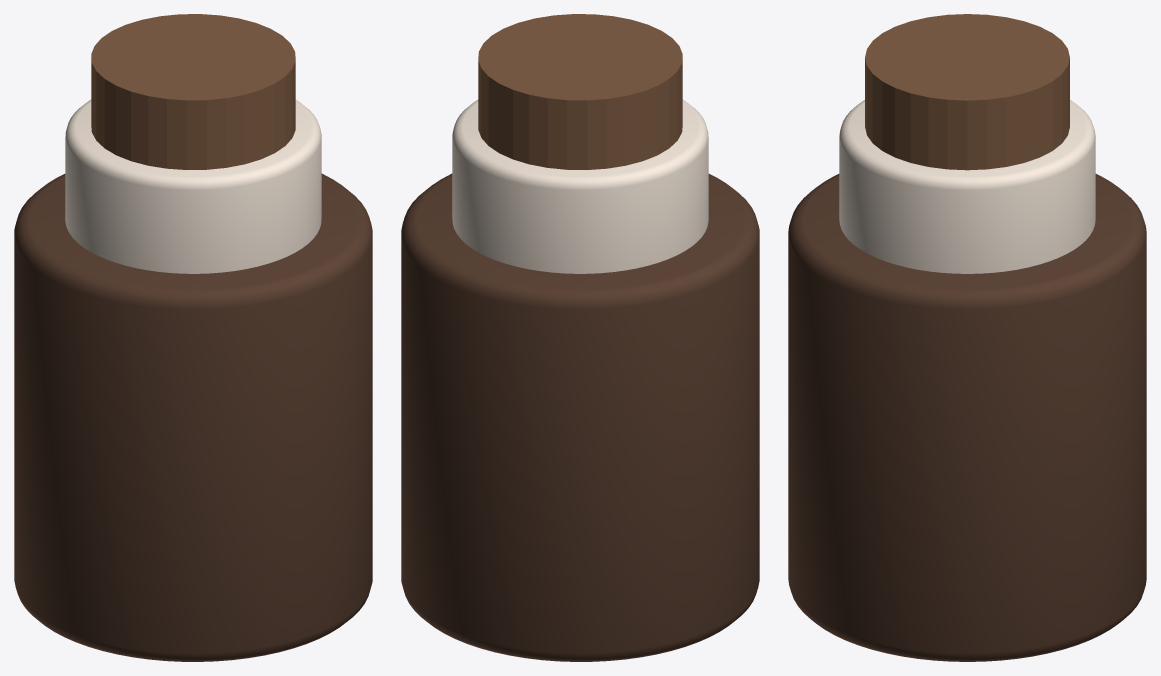
Rendered from dec54ba8-630c-42e4-9a9f-a6eb1b39072e.glb.
3 renders of one model, left to right at view 1: azimuth 30°, elevation 25°; view 2: azimuth 150°, elevation 25°; view 3: azimuth 270°, elevation 25°, orthographic.
Parts seen in each view (by area): view 1: Cup, Saucer, Coffee; view 2: Cup, Saucer, Coffee; view 3: Cup, Saucer, Coffee.
Boxes of the visible parts, left/top/right/bottom form: Cup: left=14, top=173, right=372, bottom=661; Saucer: left=65, top=99, right=321, bottom=273; Coffee: left=91, top=14, right=295, bottom=169; Cup: left=401, top=173, right=759, bottom=661; Saucer: left=452, top=99, right=708, bottom=273; Coffee: left=478, top=14, right=682, bottom=169; Cup: left=788, top=174, right=1146, bottom=661; Saucer: left=839, top=100, right=1095, bottom=273; Coffee: left=865, top=14, right=1069, bottom=170.
Bounding box in the file's own units: 0.07 × 0.115 × 0.07.
